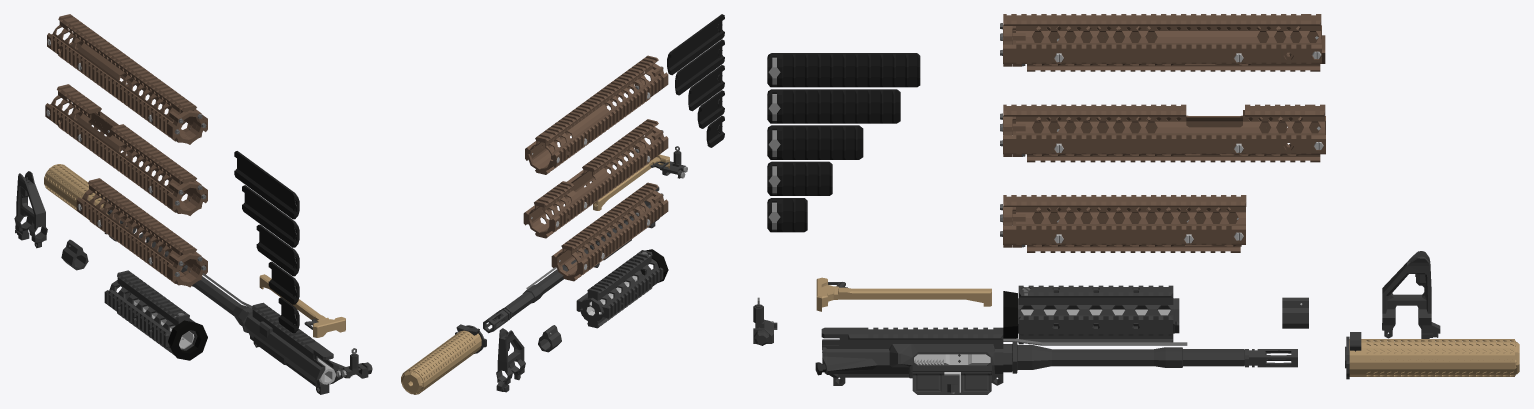
File: low-poly_mk18cqbr_parts_collection.glb
The picture shows the model from 3 angles, left to right: view 1: azimuth 30°, elevation 25°; view 2: azimuth 150°, elevation 25°; view 3: azimuth 270°, elevation 25°; orthographic projection. The views are drawn at different scales.
Visible parts, largest first — view 1: M4A1_RIS_20, M4A1_RIS_FSP_19, Mk18_RIS_16, upper_0, RIS_upper_2, cover_15cm_22, front_sight_gasblock_13, cover_13.5cm_21, suppressor_26, barrel_12, cover_10cm_23, PRI_M84_29 (+9 smaller); view 2: M4A1_RIS_20, M4A1_RIS_FSP_19, Mk18_RIS_16, RIS_upper_2, suppressor_26, cover_15cm_22, front_sight_gasblock_13, cover_13.5cm_21, barrel_12, M4A1_RIS_FSP_lower_18, cover_10cm_23, M4A1_RIS_lower_17 (+9 smaller); view 3: M4A1_RIS_20, M4A1_RIS_FSP_19, Mk18_RIS_16, upper_0, RIS_upper_2, suppressor_26, cover_15cm_22, barrel_12, cover_13.5cm_21, M4A1_RIS_FSP_lower_18, cover_10cm_23, M4A1_RIS_lower_17 (+11 smaller).
Boxes of the visible parts, bbox=[...] form: M4A1_RIS_20: bbox=[47, 14, 207, 144]; M4A1_RIS_FSP_19: bbox=[45, 84, 207, 215]; Mk18_RIS_16: bbox=[76, 178, 207, 287]; upper_0: bbox=[244, 302, 344, 394]; RIS_upper_2: bbox=[104, 270, 196, 347]; cover_15cm_22: bbox=[234, 151, 299, 219]; front_sight_gasblock_13: bbox=[14, 171, 47, 248]; cover_13.5cm_21: bbox=[242, 185, 299, 247]; suppressor_26: bbox=[44, 164, 136, 241]; barrel_12: bbox=[159, 250, 252, 332]; cover_10cm_23: bbox=[256, 224, 299, 276]; PRI_M84_29: bbox=[259, 274, 345, 337]; M4A1_RIS_20: bbox=[525, 55, 668, 171]; M4A1_RIS_FSP_19: bbox=[523, 119, 668, 234]; Mk18_RIS_16: bbox=[551, 182, 668, 277]; RIS_upper_2: bbox=[576, 250, 663, 318]; suppressor_26: bbox=[401, 324, 486, 394]; cover_15cm_22: bbox=[667, 14, 724, 75]; front_sight_gasblock_13: bbox=[496, 328, 525, 392]; cover_13.5cm_21: bbox=[675, 39, 724, 95]; barrel_12: bbox=[498, 244, 593, 321]; M4A1_RIS_FSP_lower_18: bbox=[531, 143, 650, 238]; cover_10cm_23: bbox=[688, 65, 724, 111]; M4A1_RIS_lower_17: bbox=[531, 80, 650, 174]; M4A1_RIS_20: bbox=[1000, 14, 1325, 66]; M4A1_RIS_FSP_19: bbox=[1000, 104, 1325, 156]; Mk18_RIS_16: bbox=[1000, 195, 1246, 247]; upper_0: bbox=[821, 327, 1012, 385]; RIS_upper_2: bbox=[1018, 285, 1174, 335]; suppressor_26: bbox=[1346, 332, 1519, 379]; cover_15cm_22: bbox=[767, 53, 920, 87]; barrel_12: bbox=[1003, 338, 1244, 373]; cover_13.5cm_21: bbox=[767, 89, 900, 123]; M4A1_RIS_FSP_lower_18: bbox=[1027, 121, 1320, 162]; cover_10cm_23: bbox=[767, 125, 863, 159]; M4A1_RIS_lower_17: bbox=[1027, 32, 1320, 71].
Bounding box in the file's own units: 0.1593 × 0.3603 × 0.7674.
